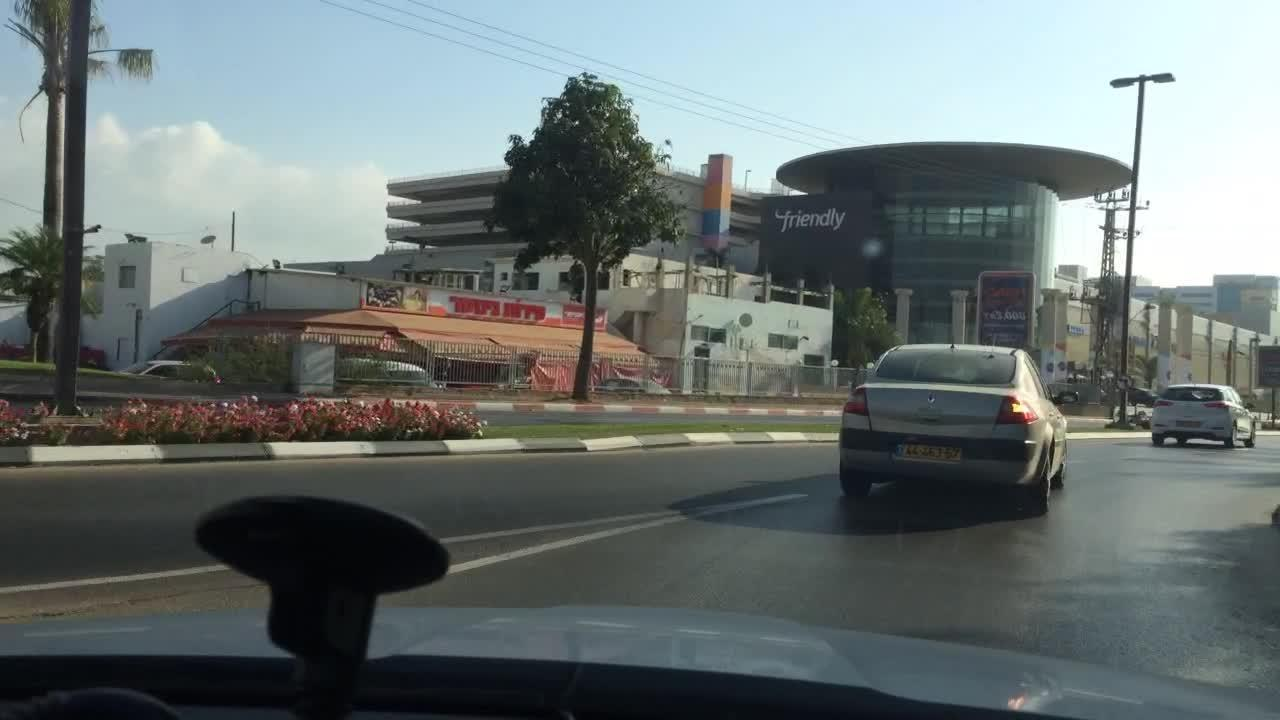Renault: (924, 388, 939, 410)
